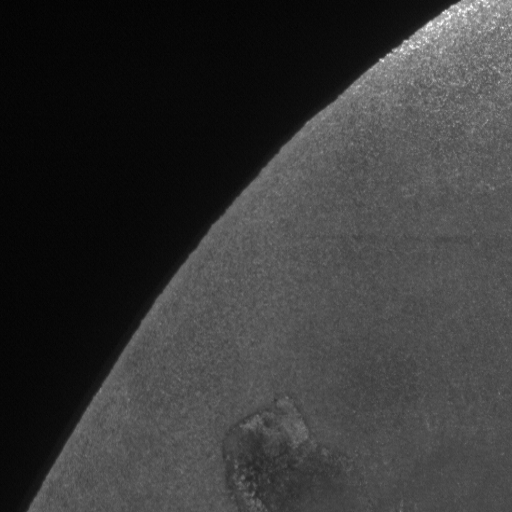aokeng: (223, 394, 368, 511)
